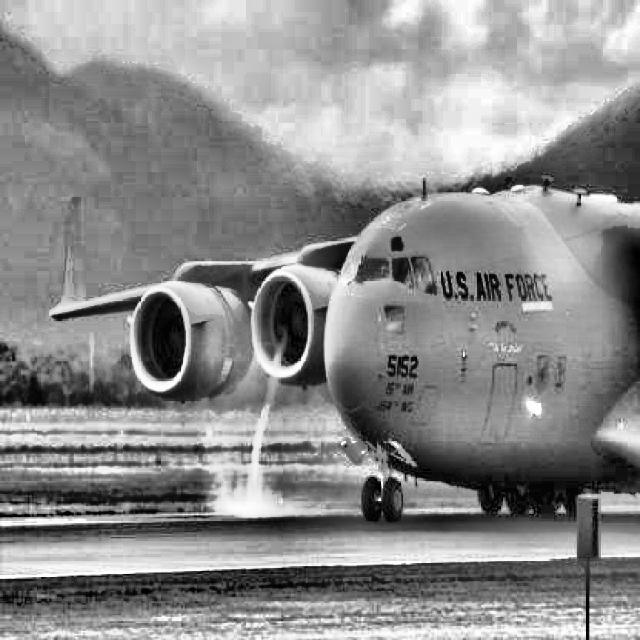C17: (48, 174, 640, 523)
